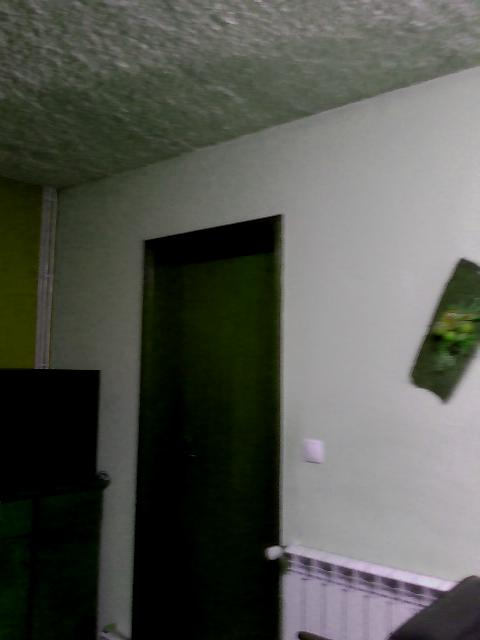closed_door: (133, 214, 280, 639)
